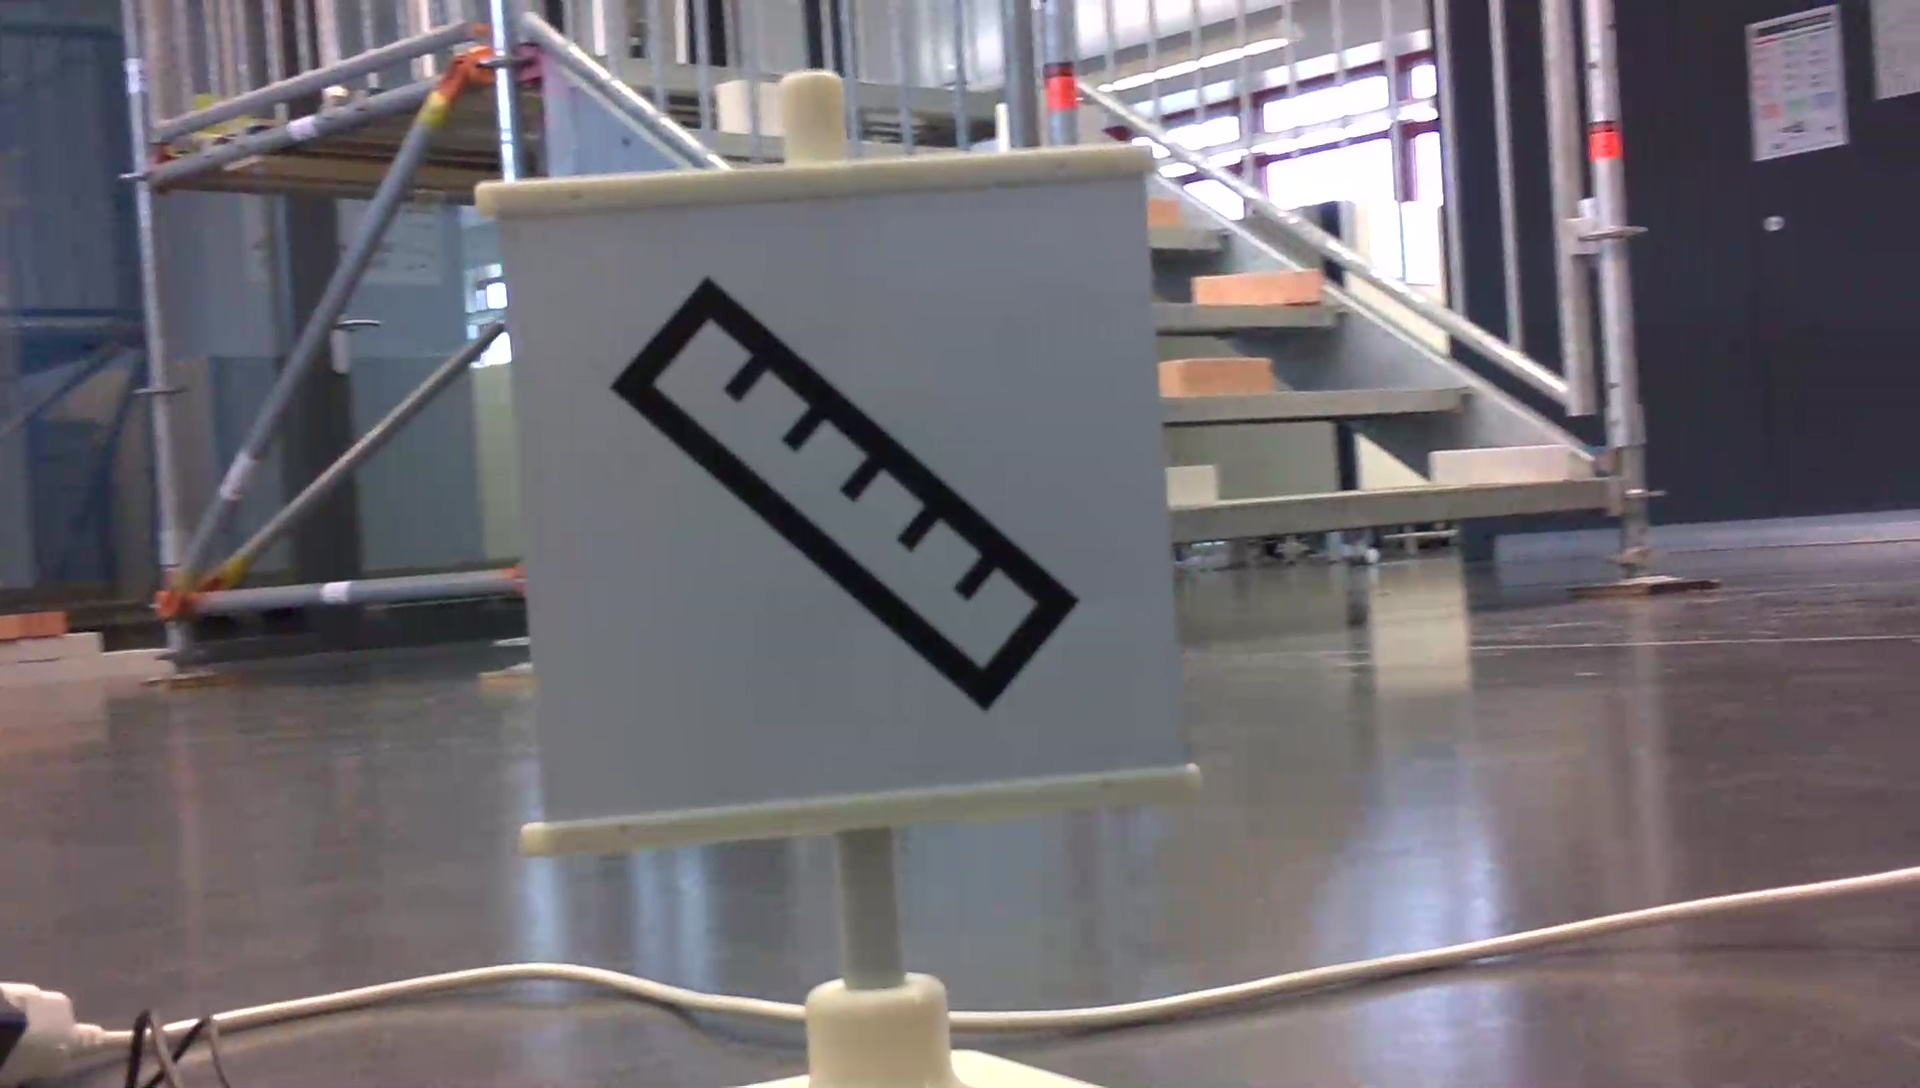brick: (1424, 437, 1575, 487), (1176, 264, 1323, 305), (1160, 348, 1283, 396), (1166, 451, 1218, 510), (1139, 200, 1191, 229)
edge: (1168, 469, 1629, 543), (1150, 378, 1470, 422), (696, 132, 953, 160), (615, 80, 997, 98), (1146, 298, 1335, 324), (1139, 220, 1232, 247)
ruler: (611, 269, 1079, 727)
